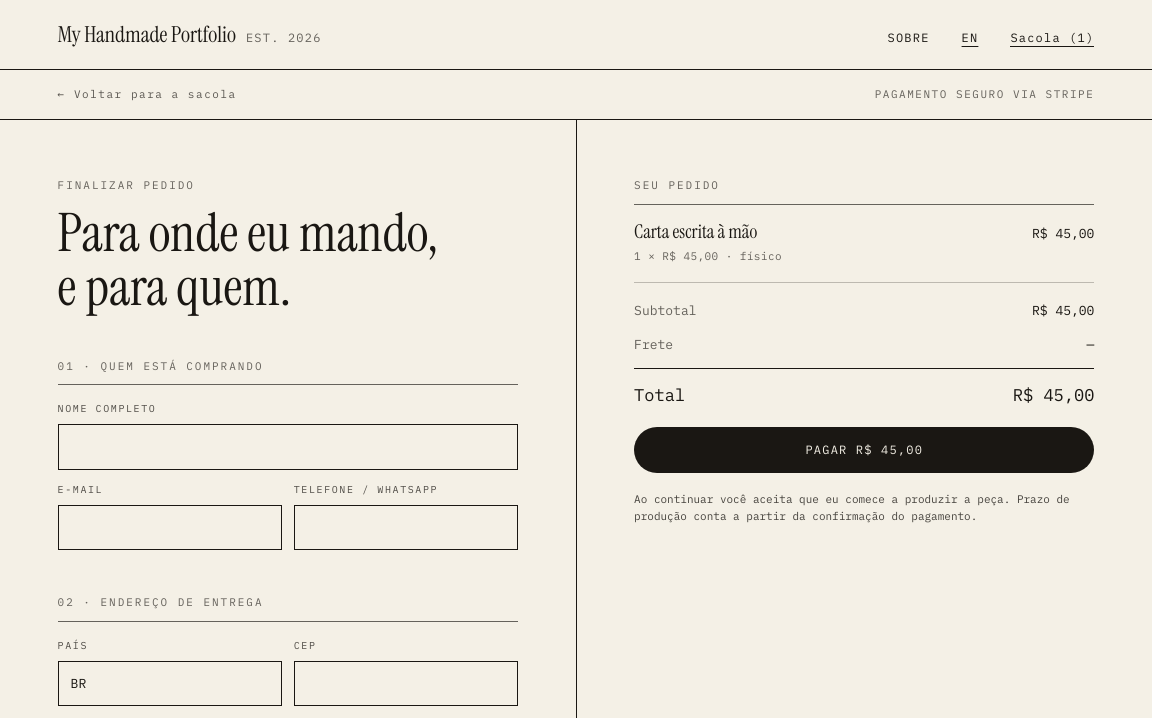
it: CheckoutRoute › does not POST when the schema rejects the form
What coordinates should you click on to do the following:
click the button "Pagar R$ 45,00"
I would click on:
 (864, 450)
Its box is [634, 427, 1094, 473].
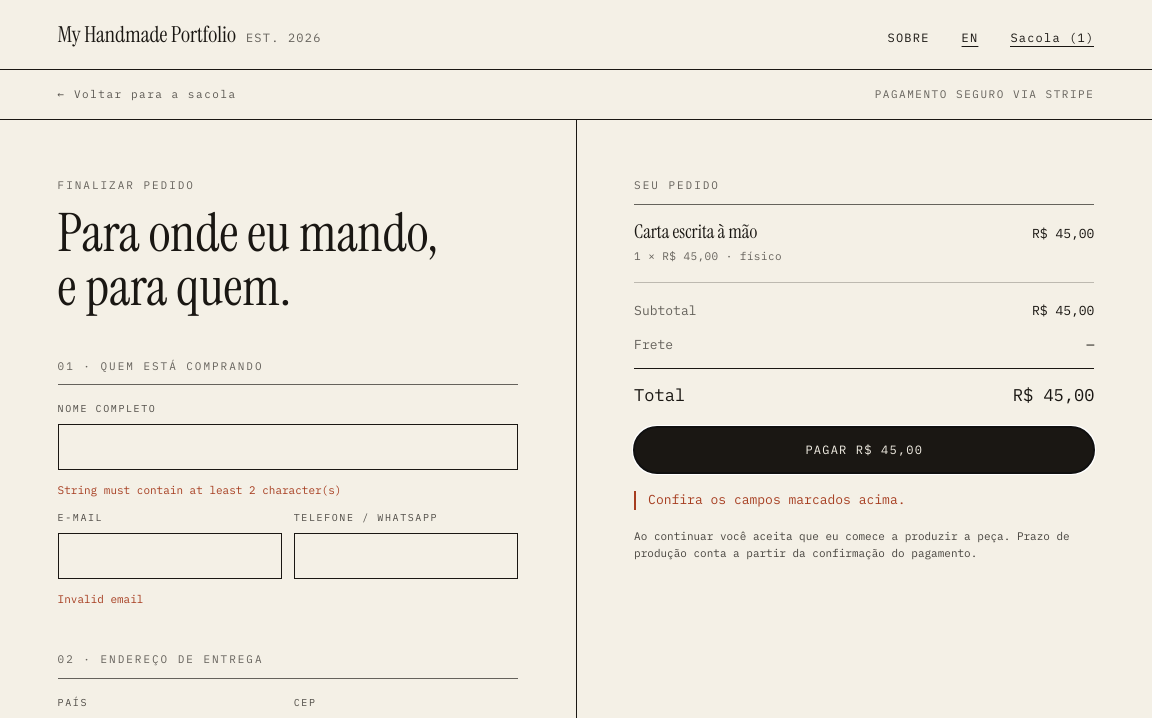
Check: the message reads "Confira os campos marcados acima.", box [648, 491, 906, 508]
